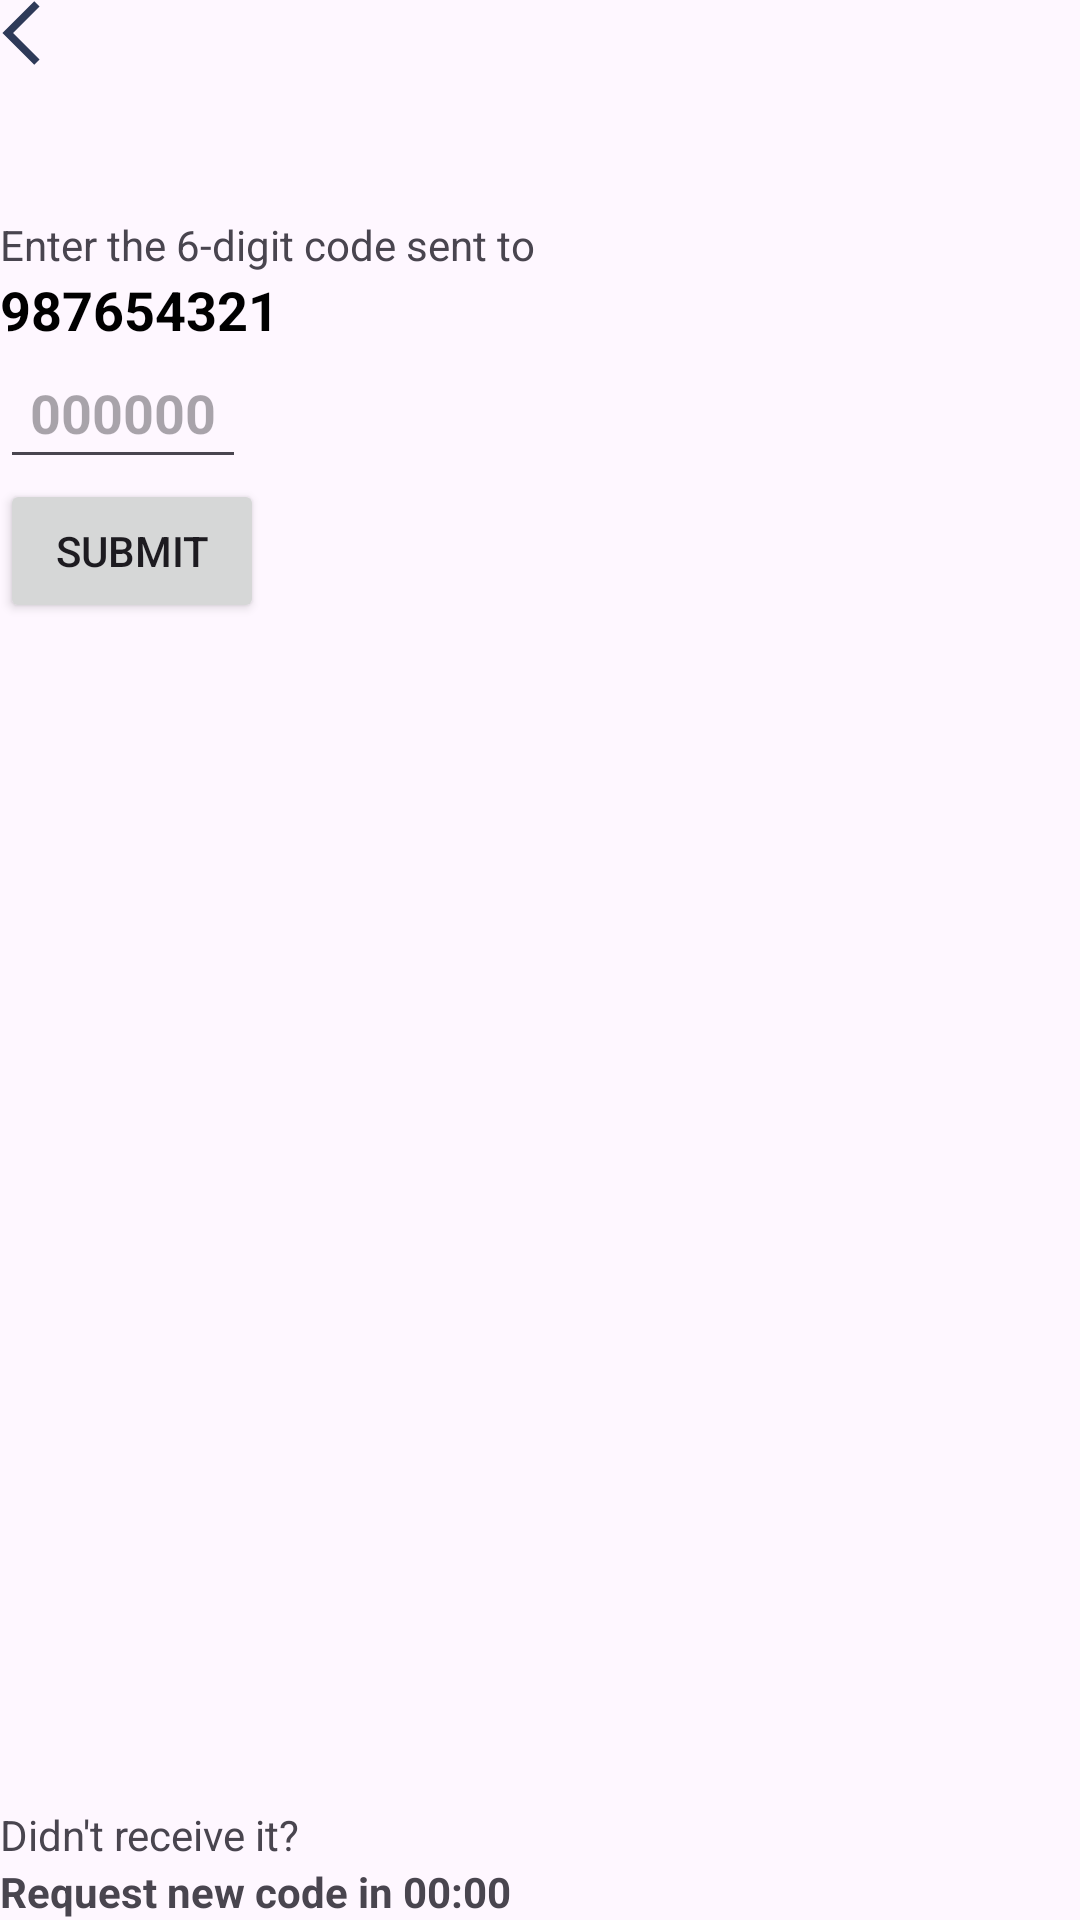

Icons on this 1080x1920 Android screen, each with its box as (x1, y1, x2, y2):
back: (2, 1, 40, 65)
